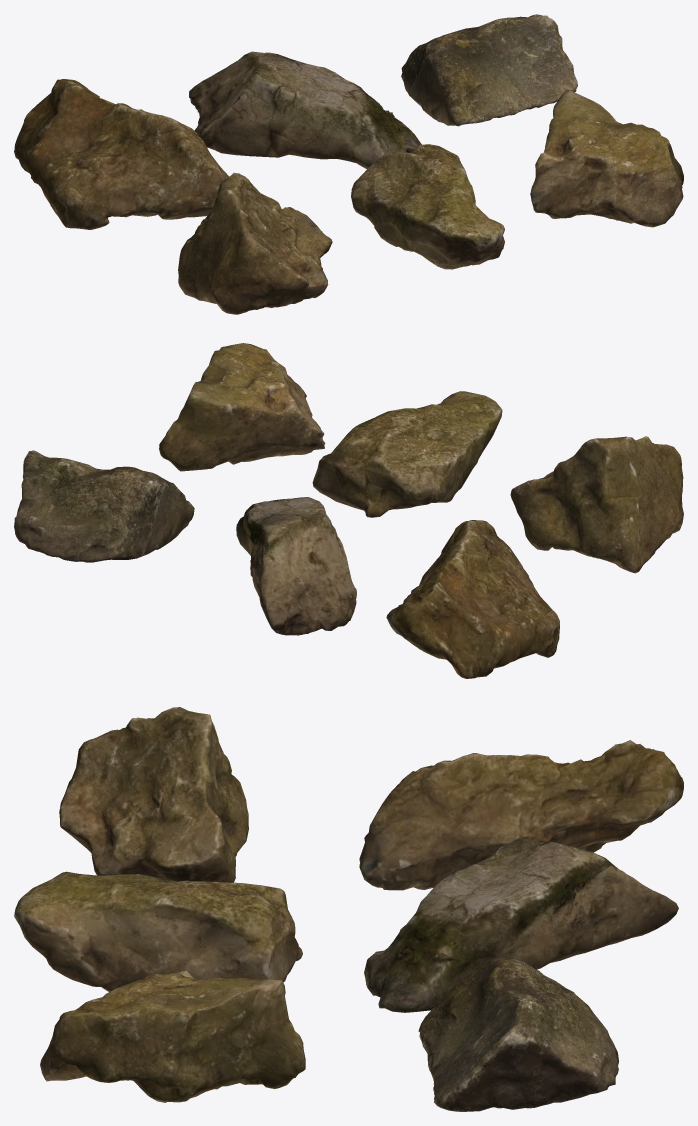
The model's file is rock_moss_set_01.glb.
3 renders of one model, top to bottom at view 1: azimuth 30°, elevation 25°; view 2: azimuth 150°, elevation 25°; view 3: azimuth 270°, elevation 25°, orthographic. The views are drawn at different scales.
Visible parts, largest first — view 1: rock_moss_set_01_rock01; view 2: rock_moss_set_01_rock01; view 3: rock_moss_set_01_rock01.
Boxes of the visible parts, x1,y1,x2,y2 form: rock_moss_set_01_rock01: [14, 14, 683, 314]; rock_moss_set_01_rock01: [14, 343, 683, 678]; rock_moss_set_01_rock01: [14, 707, 683, 1111].
Size of the model in its own units: 8 by 1.77 by 6.94.
1 material, 1 textured.
